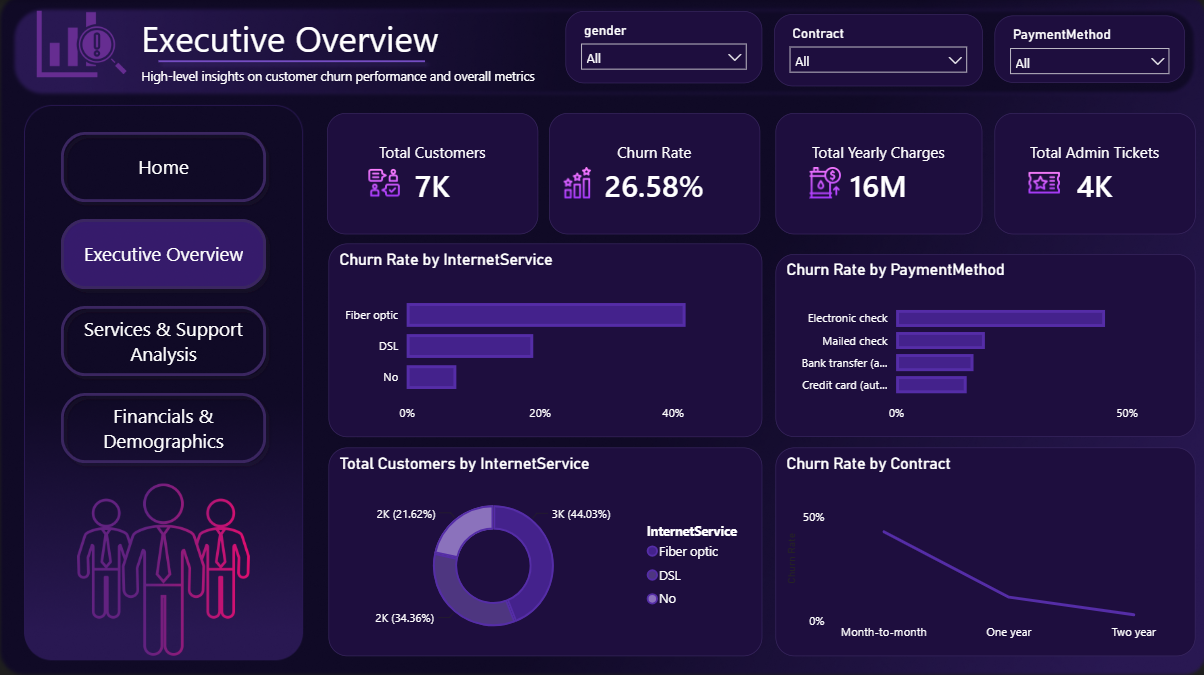

The dashboard page shown, as its layout file describes it:
{"tool":"powerbi","page":{"name":"Executive Overview","canvas":[1280,720],"ordinal":1},"visuals":[{"type":"textbox","box":[144.7,11.1,361.1,71.6],"z":0},{"type":"actionButton","box":[55.7,132,235.4,92.3],"z":1000},{"type":"actionButton","box":[55.7,224.3,235.4,92.3],"z":2000},{"type":"actionButton","box":[55.7,316.5,235.4,92.3],"z":3000},{"type":"actionButton","box":[55.7,408.8,235.4,92.3],"z":4000},{"type":"image","box":[55.7,513.8,235.4,182.9],"z":5000},{"type":"cardVisual","fields":{"Data":["01 Churn-Dataset.Total Customers"]},"box":[346.8,120.9,224.3,128.8],"z":6000},{"type":"cardVisual","fields":{"Data":["01 Churn-Dataset.Churn Rate"]},"box":[582.2,120.9,224.3,128.8],"z":7000},{"type":"cardVisual","fields":{"Data":["01 Churn-Dataset.Total Yearly Charges"]},"box":[822.3,120.9,219.5,128.8],"z":8000},{"type":"cardVisual","fields":{"Data":["01 Churn-Dataset.Total Admin Tickets"]},"box":[1054.6,120.9,213.1,128.8],"z":9000},{"type":"clusteredBarChart","fields":{"Y":["01 Churn-Dataset.Churn Rate"],"Category":["01 Churn-Dataset.InternetService"]},"box":[348.3,259.3,459.7,205.2],"z":10000},{"type":"clusteredBarChart","fields":{"Y":["01 Churn-Dataset.Churn Rate"],"Category":["01 Churn-Dataset.PaymentMethod"]},"box":[822.3,270.4,445.4,194.1],"z":11000},{"type":"donutChart","fields":{"Y":["01 Churn-Dataset.Total Customers"],"Category":["01 Churn-Dataset.InternetService"]},"box":[348.3,475.6,459.7,221.1],"z":12000},{"type":"lineChart","fields":{"Category":["01 Churn-Dataset.Contract"],"Y":["01 Churn-Dataset.Churn Rate"]},"box":[822,476,445,221],"z":13000},{"type":"slicer","fields":{"Values":["01 Churn-Dataset.Contract"]},"box":[820.8,15.9,221.1,76.3],"z":14000},{"type":"slicer","fields":{"Values":["01 Churn-Dataset.PaymentMethod"]},"box":[1054.6,17.5,202,71.6],"z":15000},{"type":"image","box":[370.6,178.1,73.2,33.4],"z":16000},{"type":"image","box":[582.2,178.1,60.4,33.4],"z":17000},{"type":"image","box":[835.1,178.1,79.5,33.4],"z":18000},{"type":"image","box":[1067.3,178.1,79.5,33.4],"z":19000},{"type":"image","box":[14.3,0,144.7,95.4],"z":20000},{"type":"slicer","fields":{"Values":["01 Churn-Dataset.gender"]},"box":[599.7,12.7,208.4,76.3],"z":21000},{"type":"textbox","box":[144.7,66.8,453.3,28.6],"z":22000},{"type":"shape","box":[159.1,0,300.6,132],"z":23000}]}

Visuals, with their boxes in screenshot pixels (x1, y1, x2, y2), scaled from the page's 1280x720 canvas onto the 1204x675 screenshot:
textbox: left=136, top=10, right=476, bottom=78
actionButton: left=52, top=124, right=274, bottom=210
actionButton: left=52, top=210, right=274, bottom=297
actionButton: left=52, top=297, right=274, bottom=383
actionButton: left=52, top=383, right=274, bottom=470
image: left=52, top=482, right=274, bottom=653
cardVisual - 01 Churn-Dataset.Total Customers: left=326, top=113, right=537, bottom=234
cardVisual - 01 Churn-Dataset.Churn Rate: left=548, top=113, right=759, bottom=234
cardVisual - 01 Churn-Dataset.Total Yearly Charges: left=773, top=113, right=980, bottom=234
cardVisual - 01 Churn-Dataset.Total Admin Tickets: left=992, top=113, right=1192, bottom=234
clusteredBarChart - 01 Churn-Dataset.Churn Rate x 01 Churn-Dataset.InternetService: left=328, top=243, right=760, bottom=435
clusteredBarChart - 01 Churn-Dataset.Churn Rate x 01 Churn-Dataset.PaymentMethod: left=773, top=253, right=1192, bottom=435
donutChart - 01 Churn-Dataset.Total Customers x 01 Churn-Dataset.InternetService: left=328, top=446, right=760, bottom=653
lineChart - 01 Churn-Dataset.Contract x 01 Churn-Dataset.Churn Rate: left=773, top=446, right=1192, bottom=653
slicer - 01 Churn-Dataset.Contract: left=772, top=15, right=980, bottom=86
slicer - 01 Churn-Dataset.PaymentMethod: left=992, top=16, right=1182, bottom=84
image: left=349, top=167, right=417, bottom=198
image: left=548, top=167, right=604, bottom=198
image: left=786, top=167, right=860, bottom=198
image: left=1004, top=167, right=1079, bottom=198
image: left=13, top=0, right=150, bottom=89
slicer - 01 Churn-Dataset.gender: left=564, top=12, right=760, bottom=83
textbox: left=136, top=63, right=562, bottom=89
shape: left=150, top=0, right=432, bottom=124
